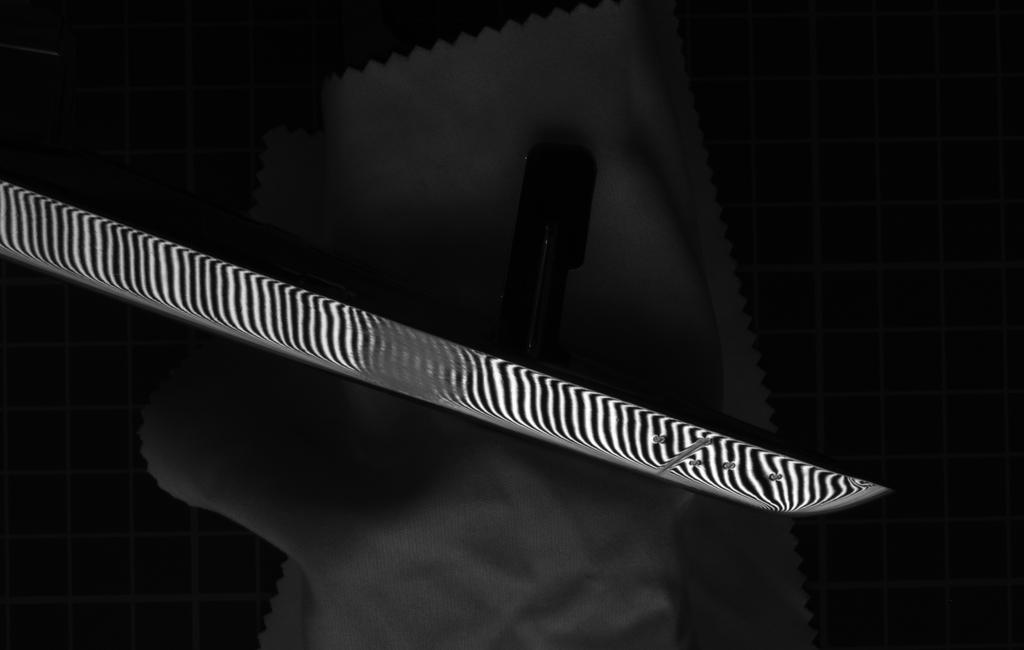Pierced: (719, 456, 743, 478), (650, 430, 672, 447), (766, 468, 787, 485), (686, 456, 705, 469)
Pitting: (359, 309, 484, 407)
Scratch: (651, 430, 718, 477)
